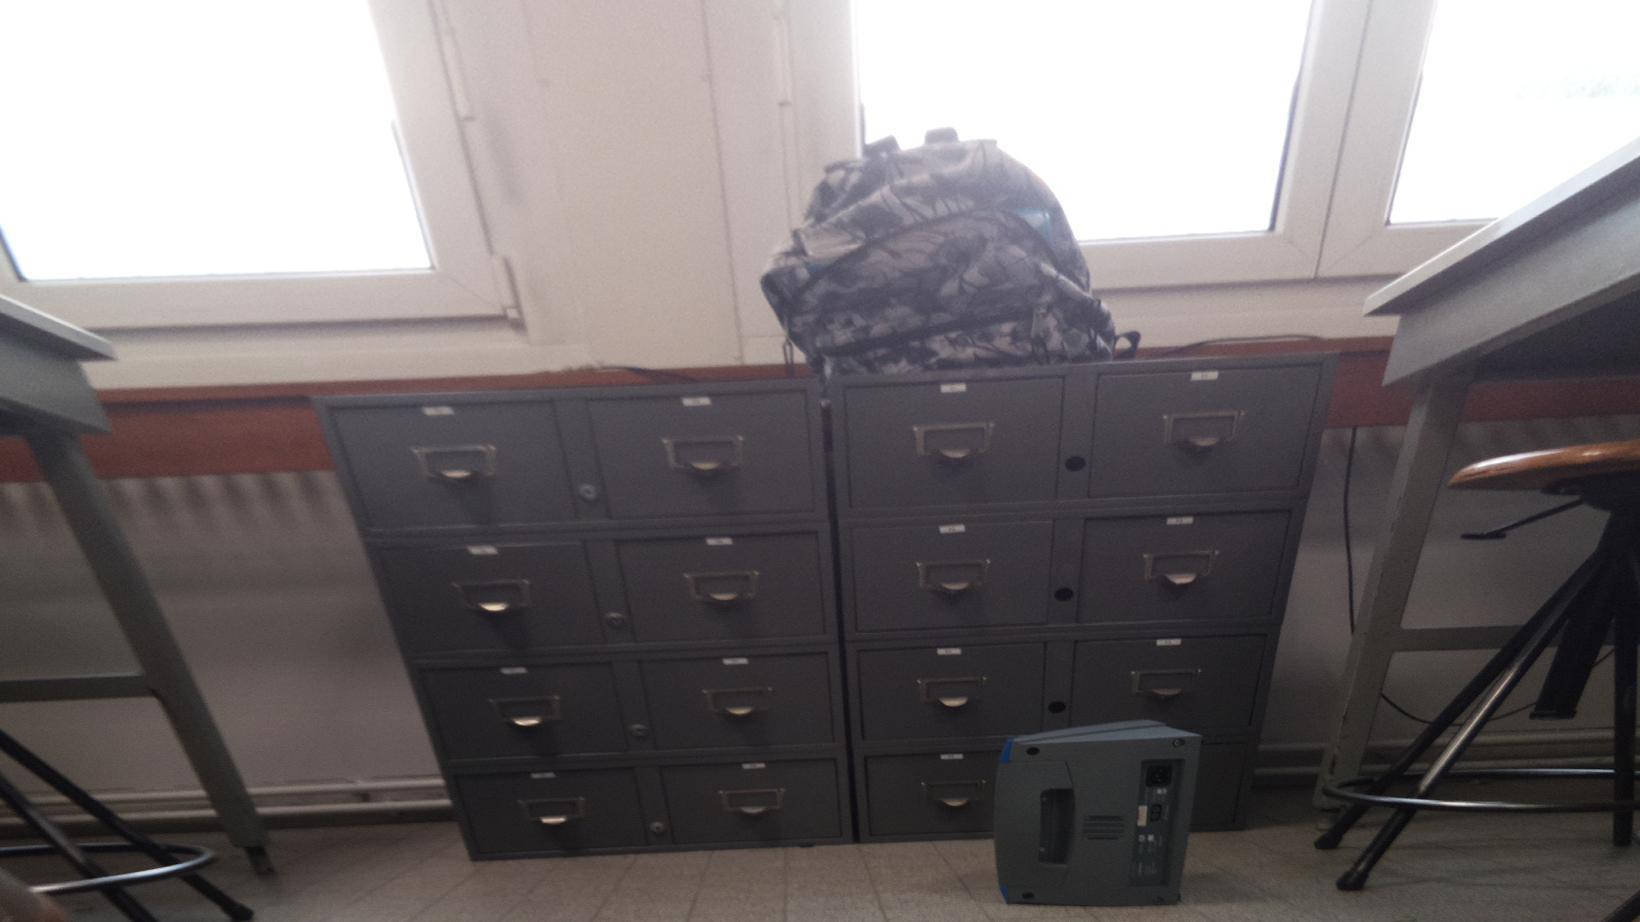big: (761, 123, 1137, 381)
medium: (982, 720, 1205, 913)
